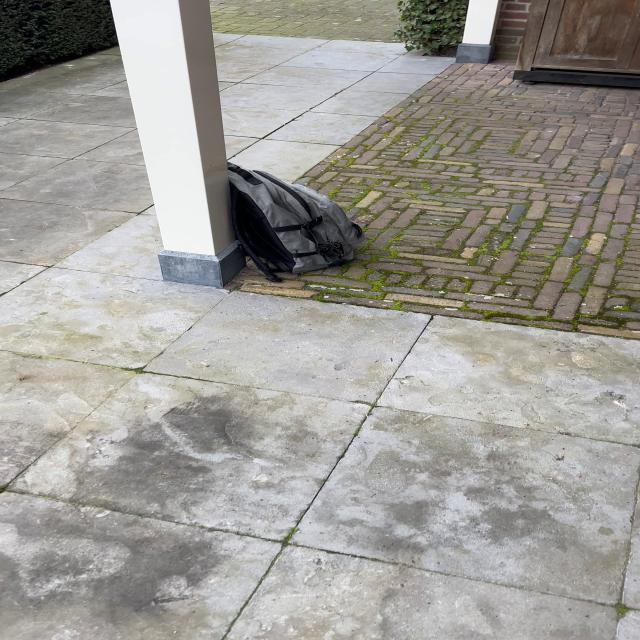backpack: (212, 159, 370, 285)
